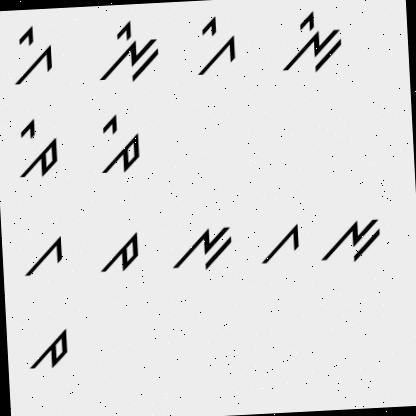ga: (254, 218, 304, 268), (18, 232, 67, 281)
gi: (3, 24, 58, 87), (192, 13, 240, 83)
nga: (314, 211, 385, 266), (168, 221, 237, 276)
ngi: (271, 3, 347, 75), (90, 19, 162, 91)
ta: (22, 324, 78, 376), (92, 226, 142, 280)
ti: (90, 111, 146, 176), (10, 116, 62, 184)
